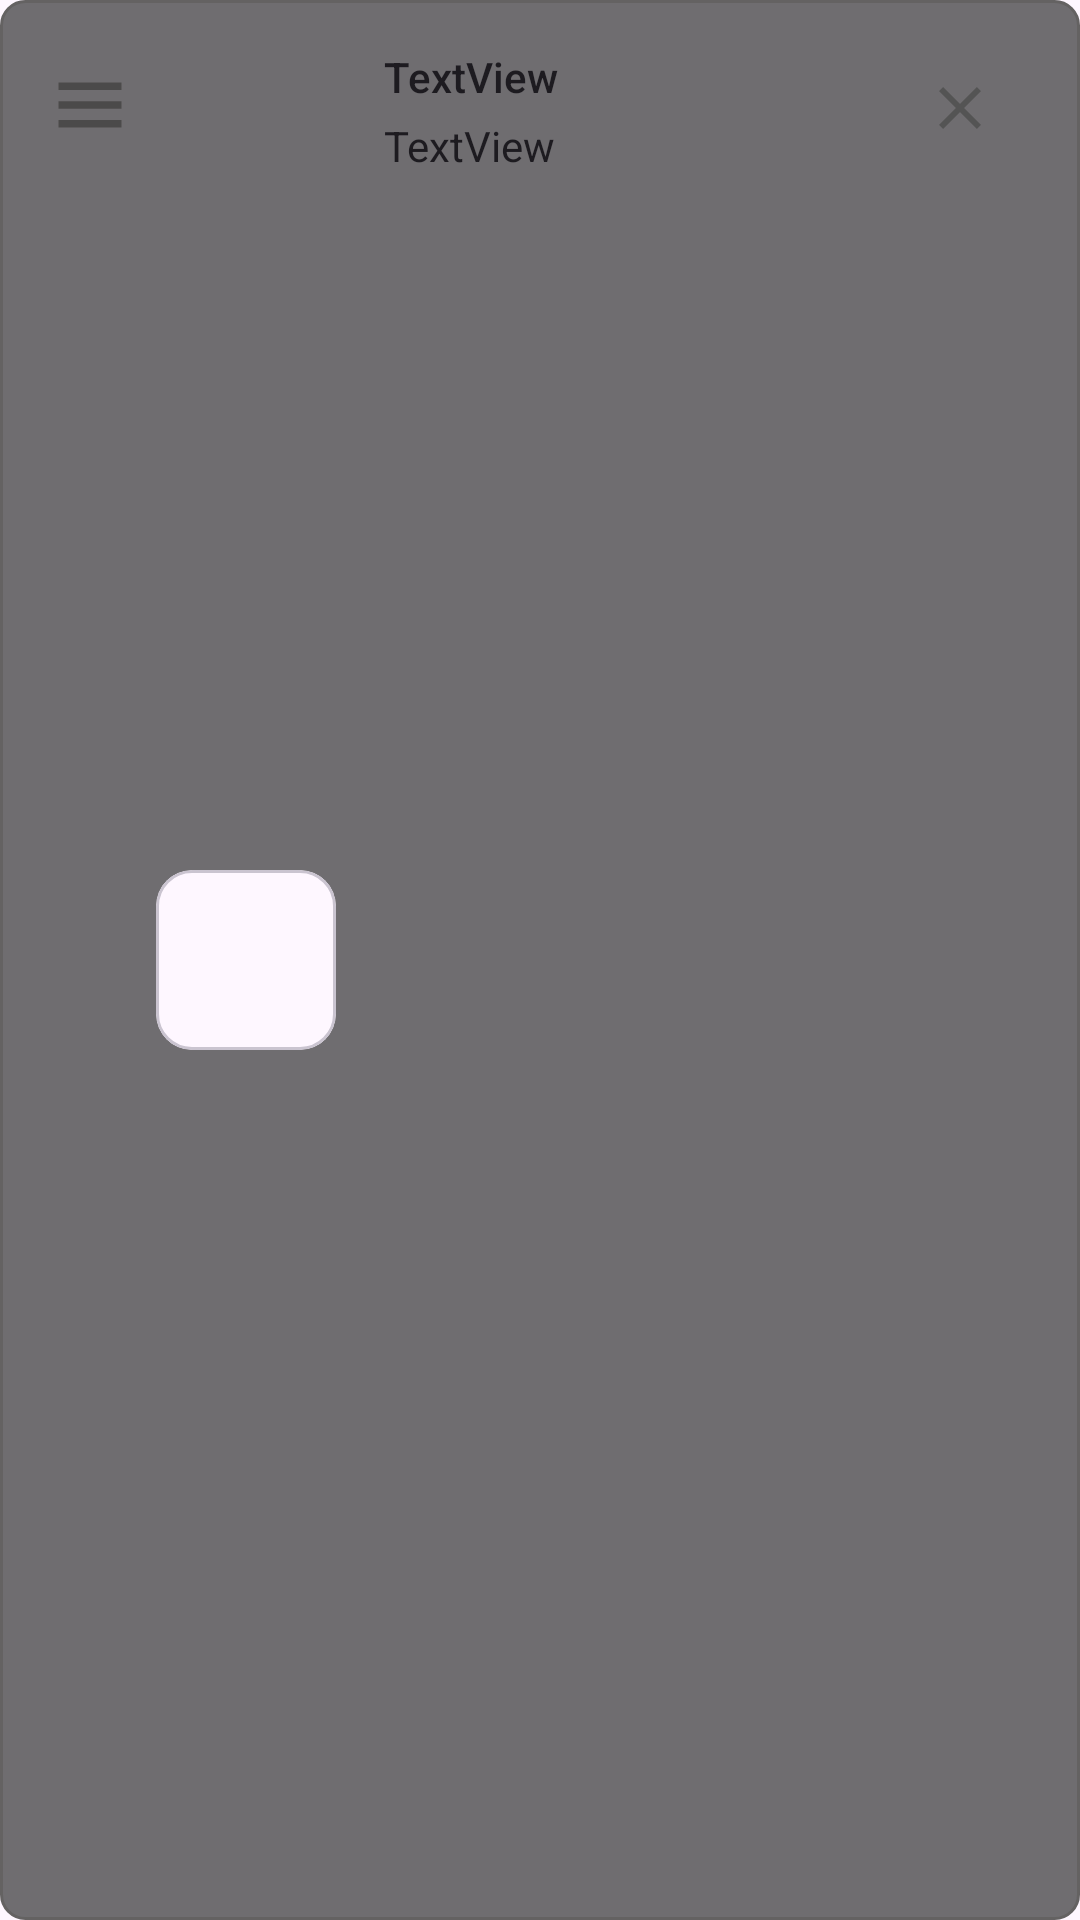

Where icons sit on this 1080px x 1920px app screen, as {"left": x1, "top": y1, "right": x2, "bottom": y2}:
close: {"left": 940, "top": 88, "right": 980, "bottom": 128}
menu: {"left": 59, "top": 83, "right": 121, "bottom": 127}
